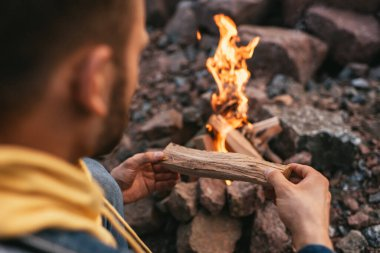fire: (197, 14, 262, 150)
